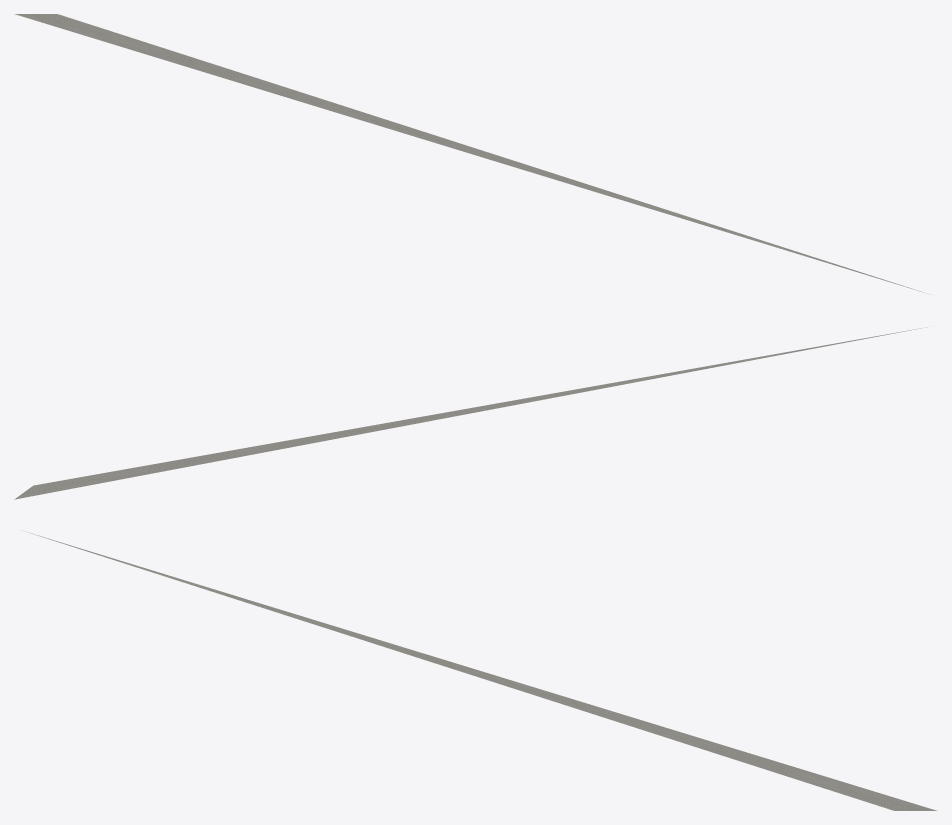
File: kd_stage_135c43_4_19_bounded_piece_15.glb
3 renders of one model, top to bottom at view 1: azimuth 90°, elevation 25°; view 2: azimuth 150°, elevation 25°; view 3: azimuth 270°, elevation 25°, orthographic. The views are drawn at different scales.
Parts seen in each view (by area): view 1: kd_stage_135c43_4_19_bounded_piece_15; view 2: kd_stage_135c43_4_19_bounded_piece_15; view 3: kd_stage_135c43_4_19_bounded_piece_15.
Boxes of the visible parts, <box> form: kd_stage_135c43_4_19_bounded_piece_15: <box>14,14,927,293</box>; kd_stage_135c43_4_19_bounded_piece_15: <box>14,327,927,499</box>; kd_stage_135c43_4_19_bounded_piece_15: <box>24,531,937,810</box>.
Bounding box in the file's own units: 0.1217 × 2.38e-07 × 0.1679.
1 material, 1 textured.
